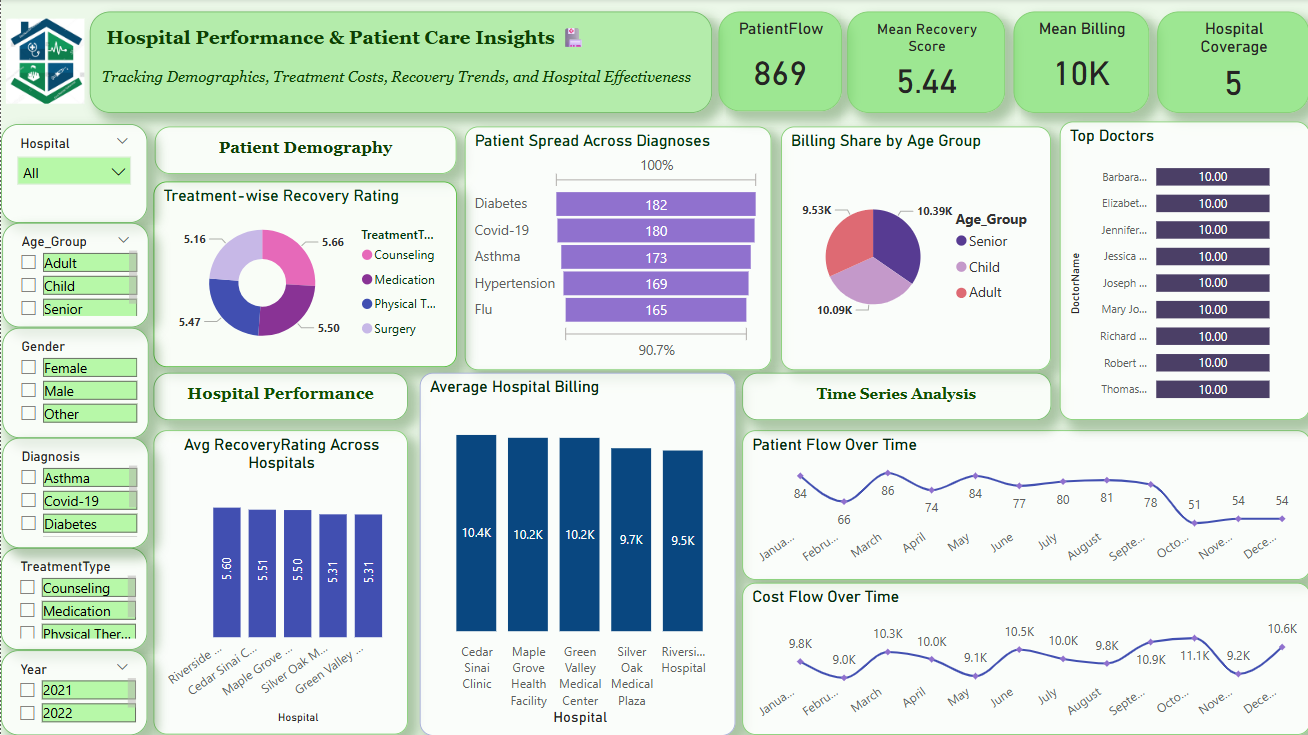

What the dashboard file says about the page in this screenshot:
{"tool":"powerbi","page":{"name":"Dashboard","canvas":[1280,720],"ordinal":0},"visuals":[{"type":"textbox","box":[86.8,12.2,609,99],"z":0},{"type":"textbox","box":[150,124.4,295.3,46.5],"z":1000},{"type":"funnel","title":"Patient Spread Across Diagnoses","fields":{"Category":["Final_MergedSheet.Diagnosis"],"Y":["CountNonNull(Final_MergedSheet.PatientID)"]},"box":[453.5,124.4,300,238.4],"z":2000},{"type":"donutChart","title":"Treatment-wise Recovery Rating","fields":{"Category":["Final_MergedSheet.TreatmentType"],"Y":["Avg(Final_MergedSheet.RecoveryRating)"]},"box":[149.2,178.5,295.9,184.6],"z":3000},{"type":"card","title":"PatientFlow","fields":{"Values":["CountNonNull(Final_MergedSheet.PatientID)"]},"box":[702.3,12.8,120.9,97.7],"z":4000},{"type":"card","title":"Mean Recovery Score","fields":{"Values":["Avg(Final_MergedSheet.RecoveryRating)"]},"box":[827.9,11.6,154.7,98.8],"z":5000},{"type":"card","title":"Mean Billing","fields":{"Values":["Avg(Final_MergedSheet.TotalBill)"]},"box":[990.7,12.8,132.6,98.8],"z":6000},{"type":"textbox","box":[148.8,365.2,249.1,46.2],"z":7000},{"type":"slicer","fields":{"Values":["Final_MergedSheet.Hospital"]},"box":[0,122.3,143.1,96.6],"z":8000},{"type":"clusteredColumnChart","title":"Avg RecoveryRating Across Hospitals","fields":{"Category":["Final_MergedSheet.Hospital"],"Y":["Avg(Final_MergedSheet.RecoveryRating)"]},"box":[148.8,422.1,248.8,297.7],"z":9000},{"type":"clusteredColumnChart","title":"Average Hospital Billing","fields":{"Category":["Final_MergedSheet.Hospital"],"Y":["Avg(Final_MergedSheet.TotalBill)"]},"box":[407.2,365.6,310.6,354.6],"z":10000},{"type":"slicer","fields":{"Values":["Final_MergedSheet.TreatmentType"]},"box":[0,536.8,143.1,100.3],"z":11000},{"type":"slicer","fields":{"Values":["Final_MergedSheet.AdmissionDate.Variation.Date Hierarchy.Year"]},"box":[0,637.1,143.1,83.2],"z":12000},{"type":"slicer","fields":{"Values":["Final_MergedSheet.Age_Group"]},"box":[1.2,218.9,143.1,102.7],"z":13000},{"type":"card","title":"Hospital Coverage","fields":{"Values":["Count(Final_MergedSheet.Hospital)"]},"box":[1131.4,11.6,148.8,98.8],"z":14000},{"type":"slicer","fields":{"Values":["Final_MergedSheet.Gender"]},"box":[1.2,321.6,143.1,107.6],"z":15000},{"type":"pieChart","title":"Billing Share by Age Group","fields":{"Category":["Final_MergedSheet.Age_Group"],"Y":["Avg(Final_MergedSheet.TotalBill)"]},"box":[762.8,124.4,264,238.4],"z":16000},{"type":"lineChart","title":"Patient Flow Over Time","fields":{"Category":["Final_MergedSheet.AdmissionDate.Variation.Date Hierarchy.Month"],"Y":["CountNonNull(Final_MergedSheet.PatientID)"]},"box":[725.1,421.9,555.2,146.7],"z":17000},{"type":"lineChart","title":"Cost Flow Over Time","fields":{"Category":["Final_MergedSheet.AdmissionDate.Variation.Date Hierarchy.Month"],"Y":["Avg(Final_MergedSheet.TotalBill)"]},"box":[724.7,571.4,555.7,148.8],"z":18000},{"type":"textbox","box":[725.1,365.6,302,46.5],"z":19000},{"type":"image","box":[0,0,86.8,122.3],"z":20000},{"type":"clusteredBarChart","title":"Top Doctors","fields":{"Category":["Final_MergedSheet.DoctorName"],"Y":["Avg(Final_MergedSheet.RecoveryRating)"]},"box":[1035.8,119.5,244.6,291.9],"z":21000},{"type":"slicer","fields":{"Values":["Final_MergedSheet.Diagnosis"]},"box":[1.2,429.2,143.1,107.6],"z":22000}]}

Visuals, with their boxes in screenshot pixels (x1, y1, x2, y2), scaled from the page's 1280x720 canvas onto the 1308x735 screenshot:
textbox: crop(89, 12, 711, 114)
textbox: crop(153, 127, 455, 174)
"Patient Spread Across Diagnoses" funnel: crop(463, 127, 770, 370)
"Treatment-wise Recovery Rating" donutChart: crop(152, 182, 455, 371)
"PatientFlow" card: crop(718, 13, 841, 113)
"Mean Recovery Score" card: crop(846, 12, 1004, 113)
"Mean Billing" card: crop(1012, 13, 1148, 114)
textbox: crop(152, 373, 407, 420)
slicer - Final_MergedSheet.Hospital: crop(0, 125, 146, 223)
"Avg RecoveryRating Across Hospitals" clusteredColumnChart: crop(152, 431, 406, 734)
"Average Hospital Billing" clusteredColumnChart: crop(416, 373, 734, 734)
slicer - Final_MergedSheet.TreatmentType: crop(0, 548, 146, 650)
slicer - Final_MergedSheet.AdmissionDate.Variation.Date Hierarchy.Year: crop(0, 650, 146, 734)
slicer - Final_MergedSheet.Age_Group: crop(1, 223, 147, 328)
"Hospital Coverage" card: crop(1156, 12, 1307, 113)
slicer - Final_MergedSheet.Gender: crop(1, 328, 147, 438)
"Billing Share by Age Group" pieChart: crop(779, 127, 1049, 370)
"Patient Flow Over Time" lineChart: crop(741, 431, 1307, 580)
"Cost Flow Over Time" lineChart: crop(741, 583, 1307, 734)
textbox: crop(741, 373, 1050, 421)
image: crop(0, 0, 89, 125)
"Top Doctors" clusteredBarChart: crop(1058, 122, 1307, 420)
slicer - Final_MergedSheet.Diagnosis: crop(1, 438, 147, 548)
